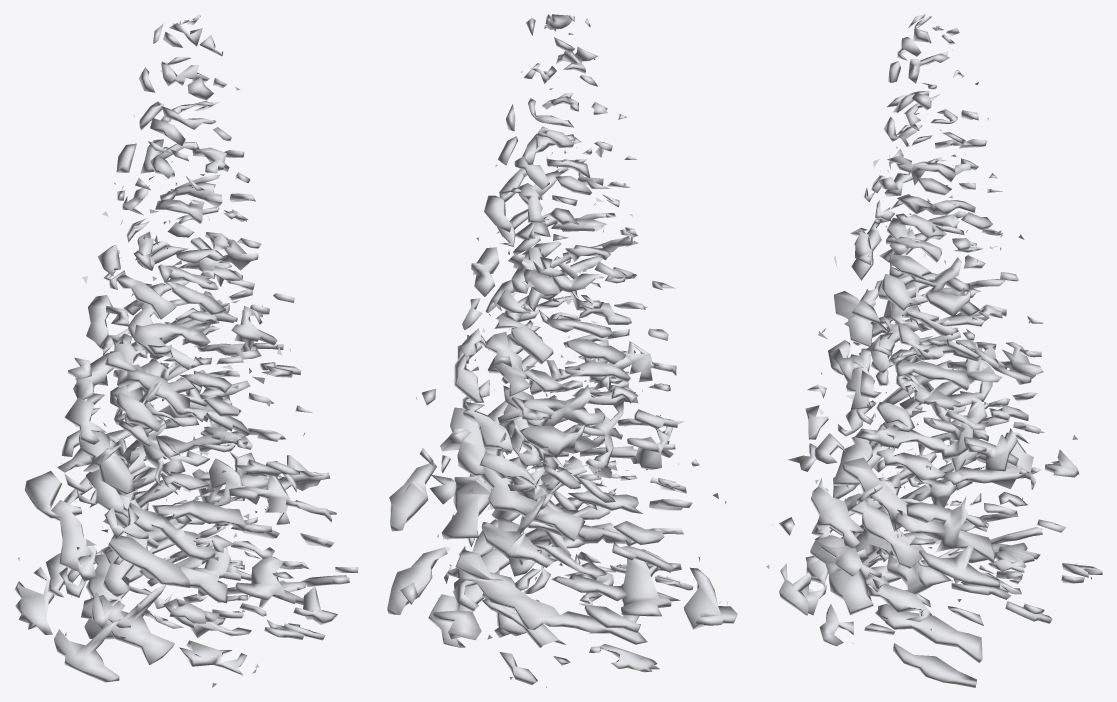
File: CW_CardedAlpineFir_SnowCoverV2_LOD1.fbx
The picture shows the model from 3 angles, left to right: view 1: azimuth 30°, elevation 25°; view 2: azimuth 150°, elevation 25°; view 3: azimuth 270°, elevation 25°; orthographic projection. The views are drawn at different scales.
Parts seen in each view (by area): view 1: CW_CardedAlpineFir_SnowCoverV2_Reduced; view 2: CW_CardedAlpineFir_SnowCoverV2_Reduced; view 3: CW_CardedAlpineFir_SnowCoverV2_Reduced.
Part boxes in pixels (x1,y1,x2,y2): CW_CardedAlpineFir_SnowCoverV2_Reduced: (14, 14, 358, 687); CW_CardedAlpineFir_SnowCoverV2_Reduced: (387, 14, 737, 687); CW_CardedAlpineFir_SnowCoverV2_Reduced: (766, 14, 1102, 687).
Bounding box in the file's own units: 3.98 × 7.58 × 3.87.
